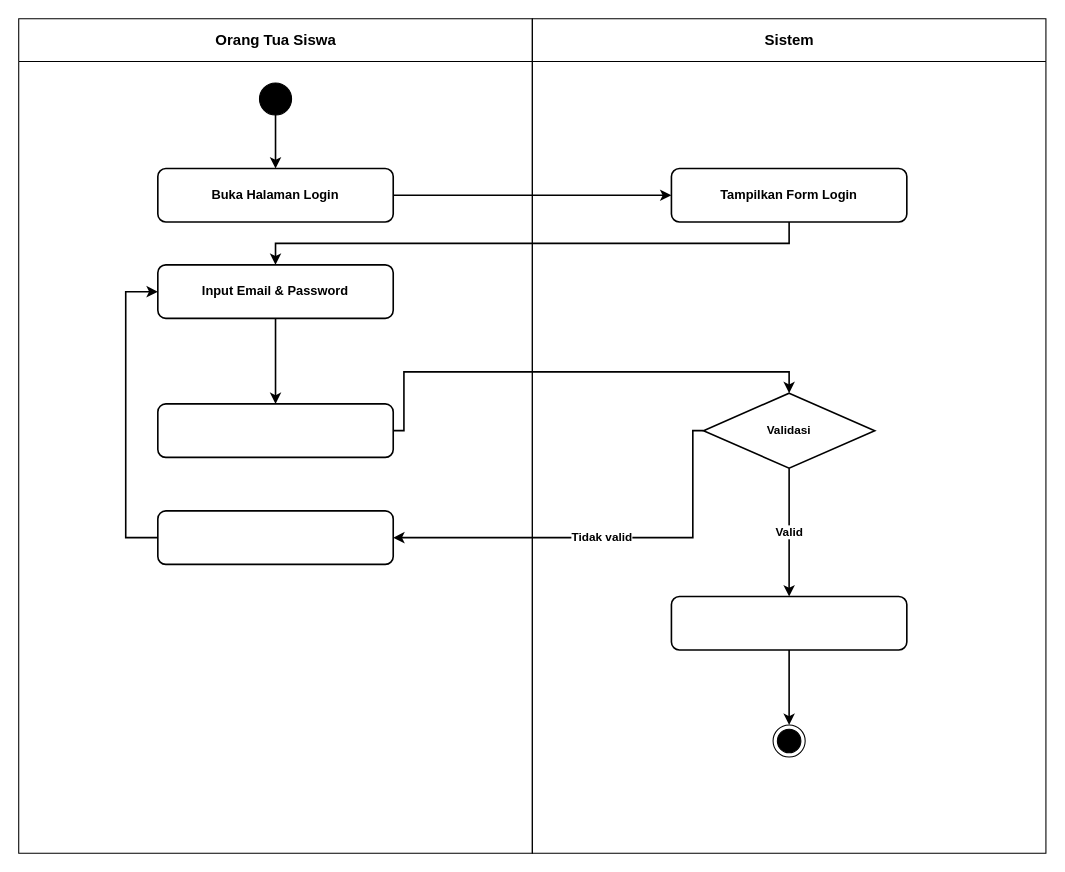
Image size: 1065x872. Some labels were removed from this diagram. The centre of each missing label's shape, as x and y in pixels:
"Klik Login" belongs at [275,430].
"Tampil Error Login" belongs at [275,537].
"Tampilkan Dashboard" belongs at [788,622].
